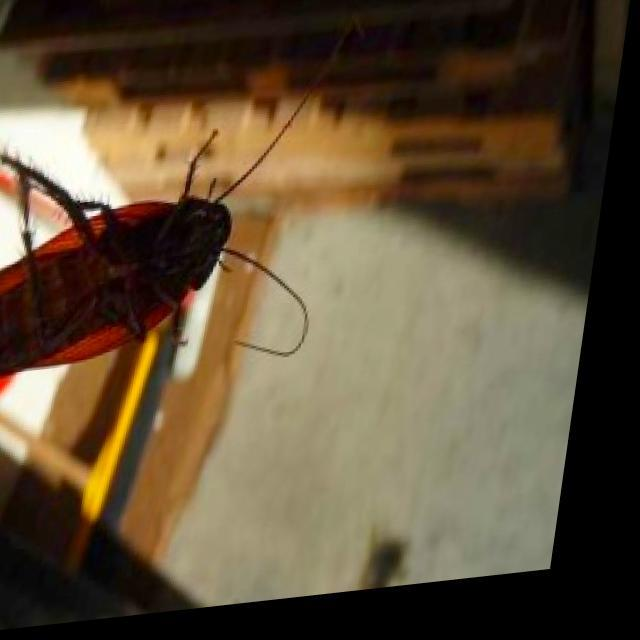cockroach: (0, 159, 271, 390)
